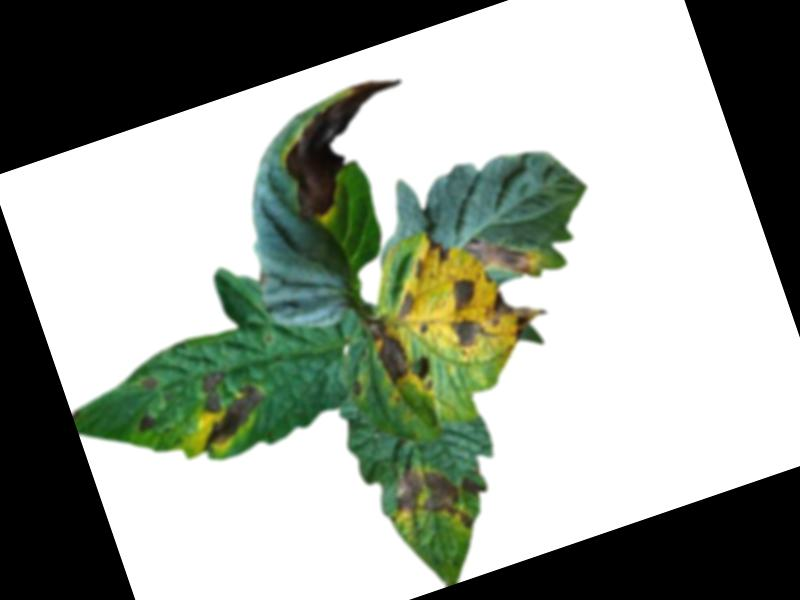Early_blight: (266, 69, 434, 222), (383, 450, 477, 549), (181, 358, 273, 451), (460, 217, 543, 293), (477, 278, 552, 349), (361, 307, 415, 387), (448, 310, 488, 353), (446, 273, 479, 311), (391, 287, 421, 319), (422, 233, 451, 266), (459, 471, 487, 500), (133, 407, 160, 433), (409, 254, 429, 278), (139, 373, 160, 390), (349, 376, 365, 397), (416, 321, 430, 336)
